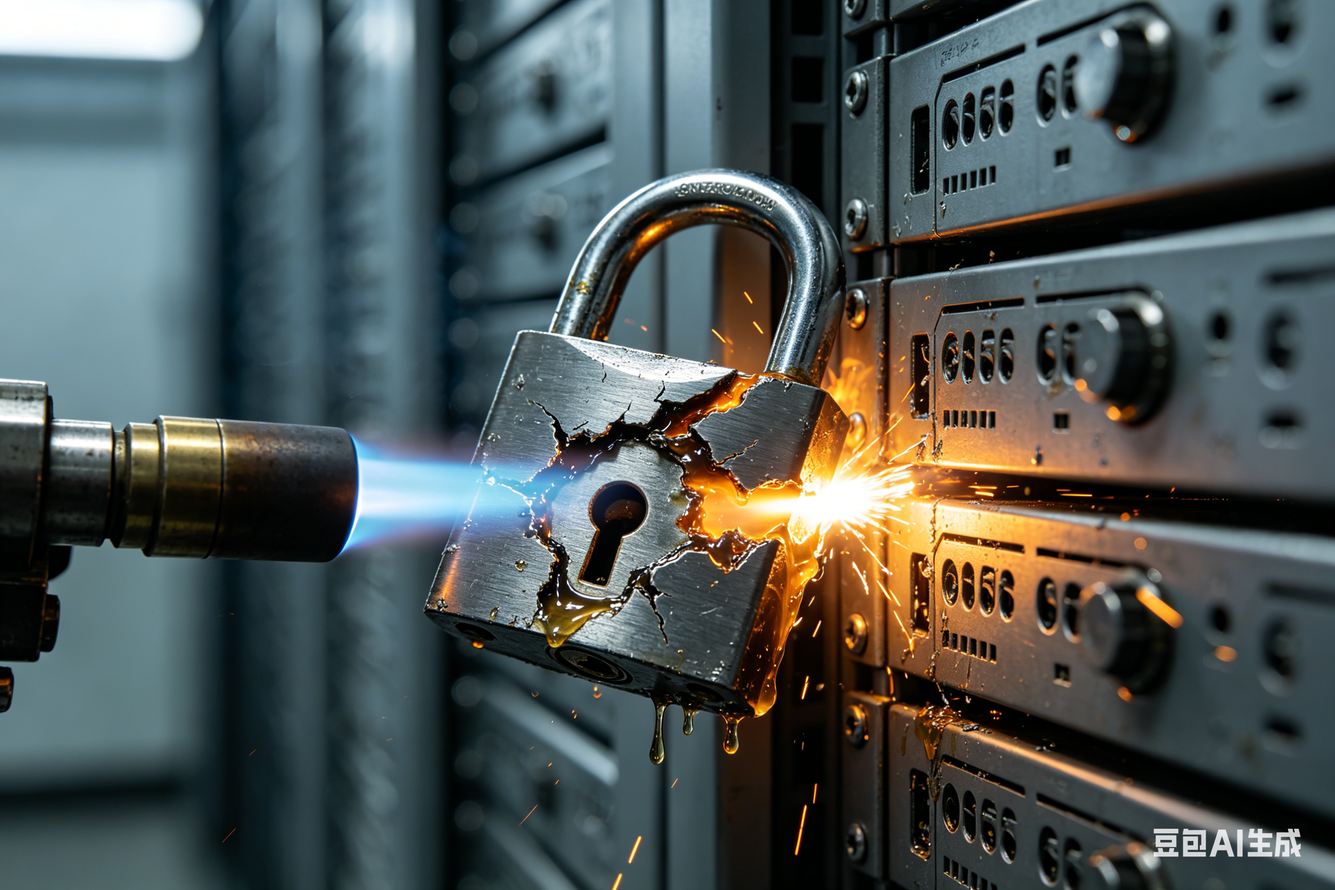BadLock: (516, 361, 797, 630)
